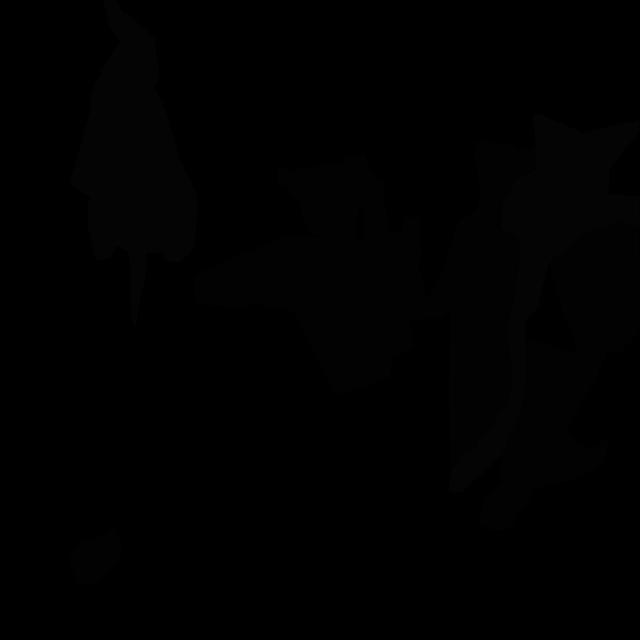cardboard: (194, 184, 418, 396), (478, 341, 611, 531), (422, 140, 537, 320), (449, 217, 519, 467), (549, 221, 640, 364), (277, 153, 386, 238), (389, 217, 425, 320), (68, 527, 122, 585)
soft_plastic: (449, 150, 600, 492), (70, 0, 197, 328), (533, 113, 640, 234)
